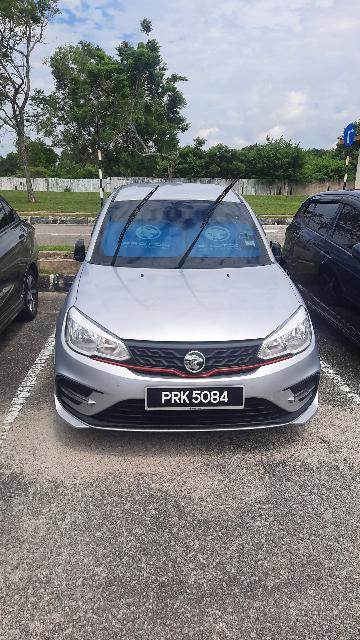License_Plate: (143, 383, 248, 413)
car: (54, 178, 325, 435)
